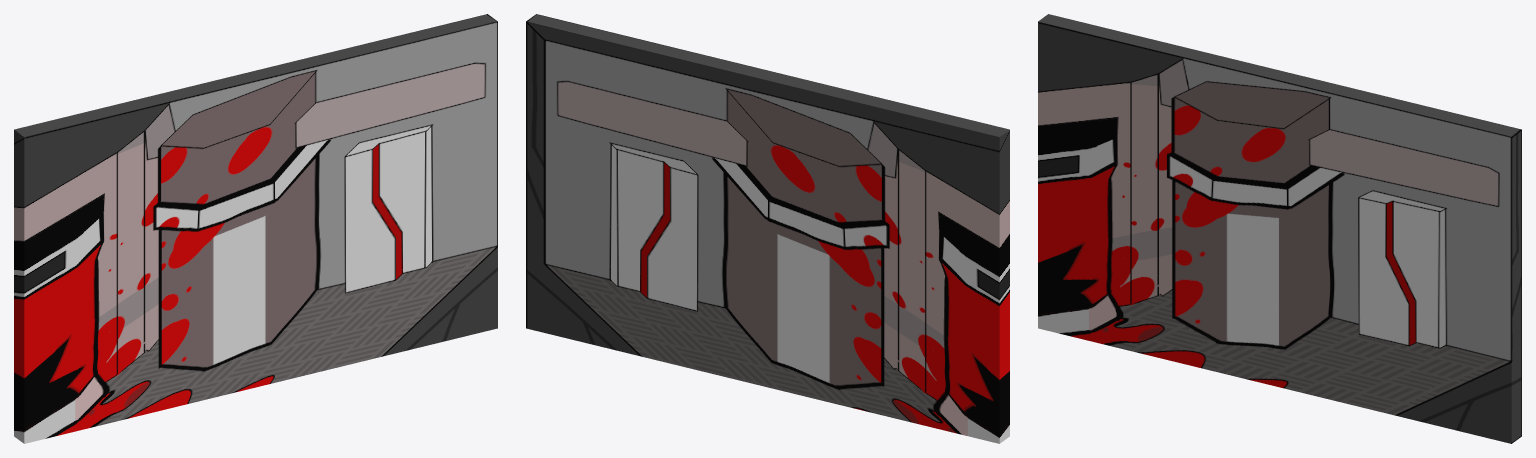
The model's file is wall2.fbx.
3 views of the same model, side by side, from view 1: azimuth 30°, elevation 25°; view 2: azimuth 150°, elevation 25°; view 3: azimuth 330°, elevation 25° (orthographic).
Visible parts, largest first — view 1: Cube.015; view 2: Cube.015; view 3: Cube.015.
Part boxes in pixels (box(x1,y1,x2,y2)): Cube.015: box(14, 14, 497, 443); Cube.015: box(526, 14, 1009, 443); Cube.015: box(1038, 14, 1521, 443).
Size of the model in its own units: 600 by 371 by 22.71.
